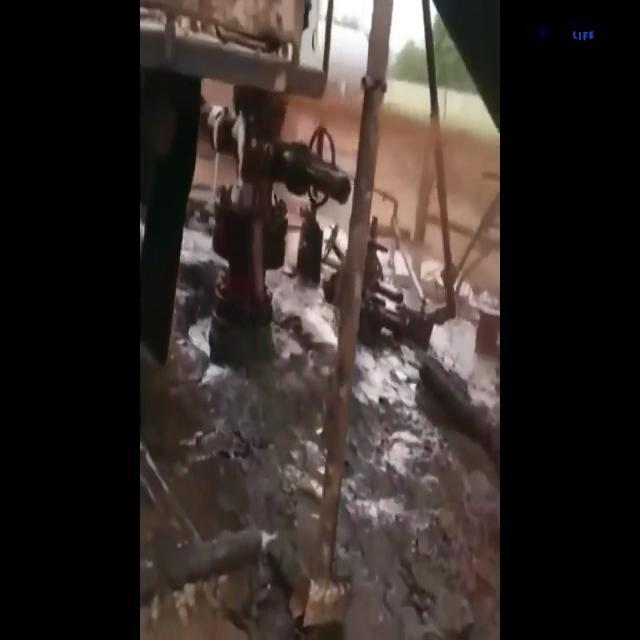spillage: (200, 274, 270, 484), (429, 297, 506, 410), (270, 262, 340, 356), (369, 420, 443, 495), (346, 488, 437, 548), (355, 342, 424, 418), (280, 431, 328, 499)
